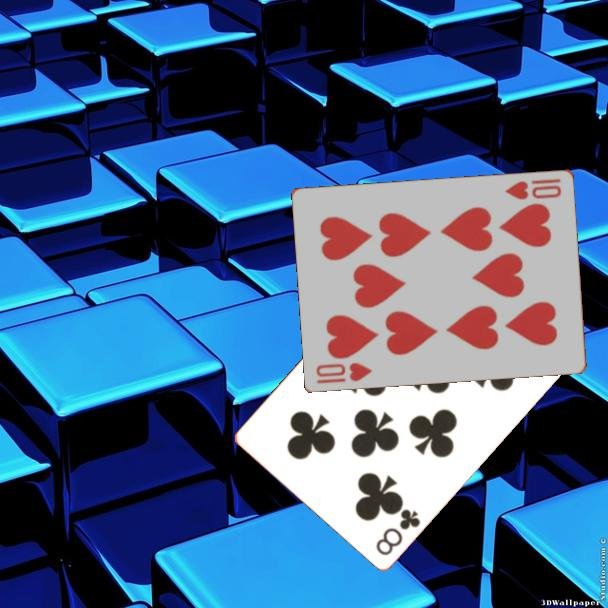c08: (372, 505, 423, 558)
h10: (502, 175, 564, 202), (313, 359, 375, 386)
